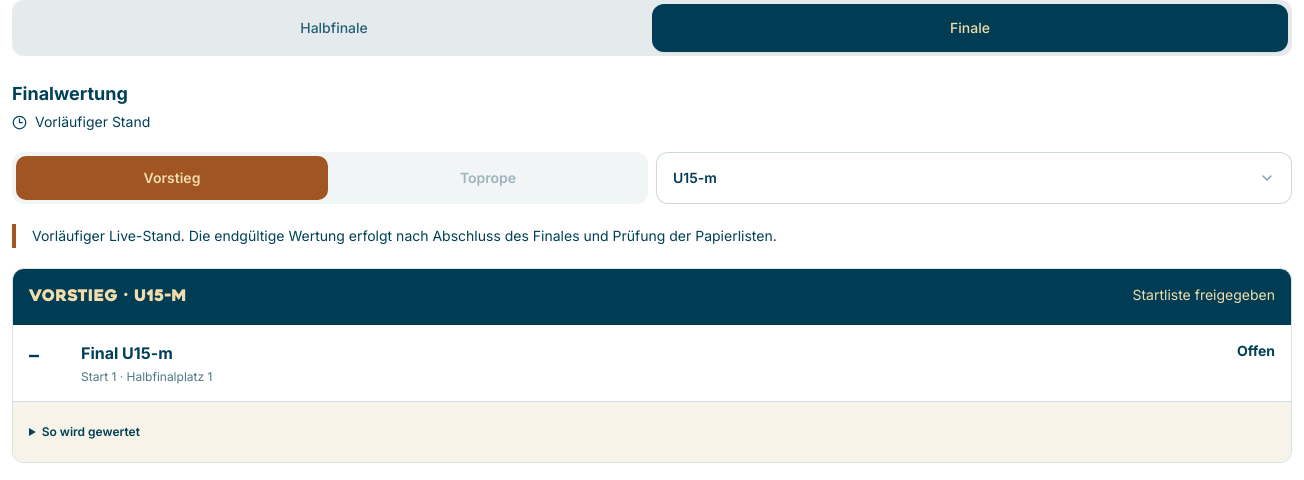
Test: falls back to an available class when the chosen class disappears or is not published in the other phase
This screenshot has width=1304, height=480.
Earlier steps of the test are not shown.
Later steps or results of the test are not shown.
Expected: the text "Final U15-m" is shown, top-left (81, 343), bottom-right (173, 363)
Expected: the dropdown named "Klasse" reads "U15-m", top-left (656, 152), bottom-right (1292, 204)
Press the mouse on the tab "Halbfinale" at (334, 28), box top-left (16, 4), bottom-right (652, 52)
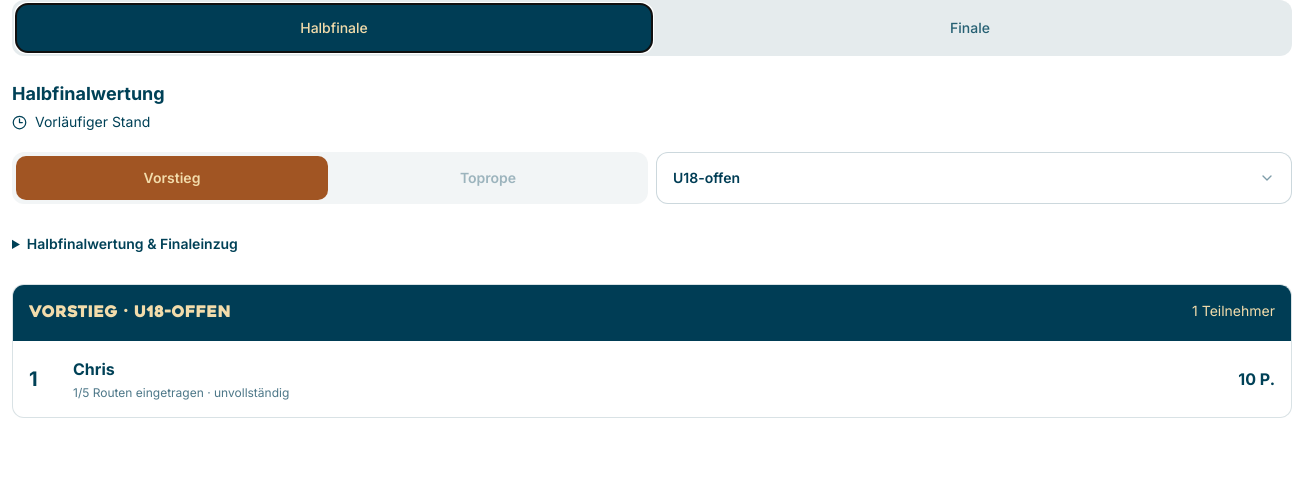
Expected: the text "Chris" is shown, top-left (73, 359), bottom-right (115, 379)
